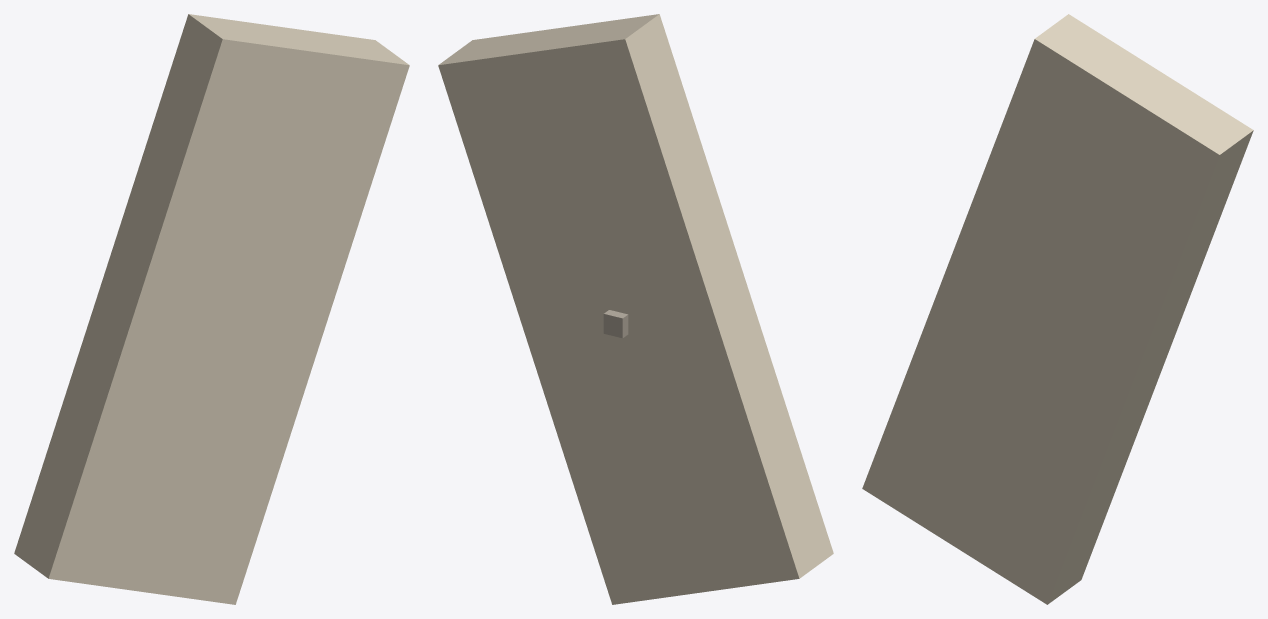
File: aqaba_3503_2960.glb
The picture shows the model from 3 angles, left to right: view 1: azimuth 30°, elevation 25°; view 2: azimuth 150°, elevation 25°; view 3: azimuth 330°, elevation 25°; orthographic projection.
Visible parts, largest first — view 1: Building_; view 2: Building_, Roof access hut; view 3: Building_.
Part boxes in pixels (x1,y1,x2,y2): Building_: [14, 14, 409, 604]; Building_: [438, 14, 833, 604]; Roof access hut: [603, 310, 628, 338]; Building_: [862, 14, 1253, 604].
Bounding box in the file's own units: 45.5 × 68.46 × 8.7.
